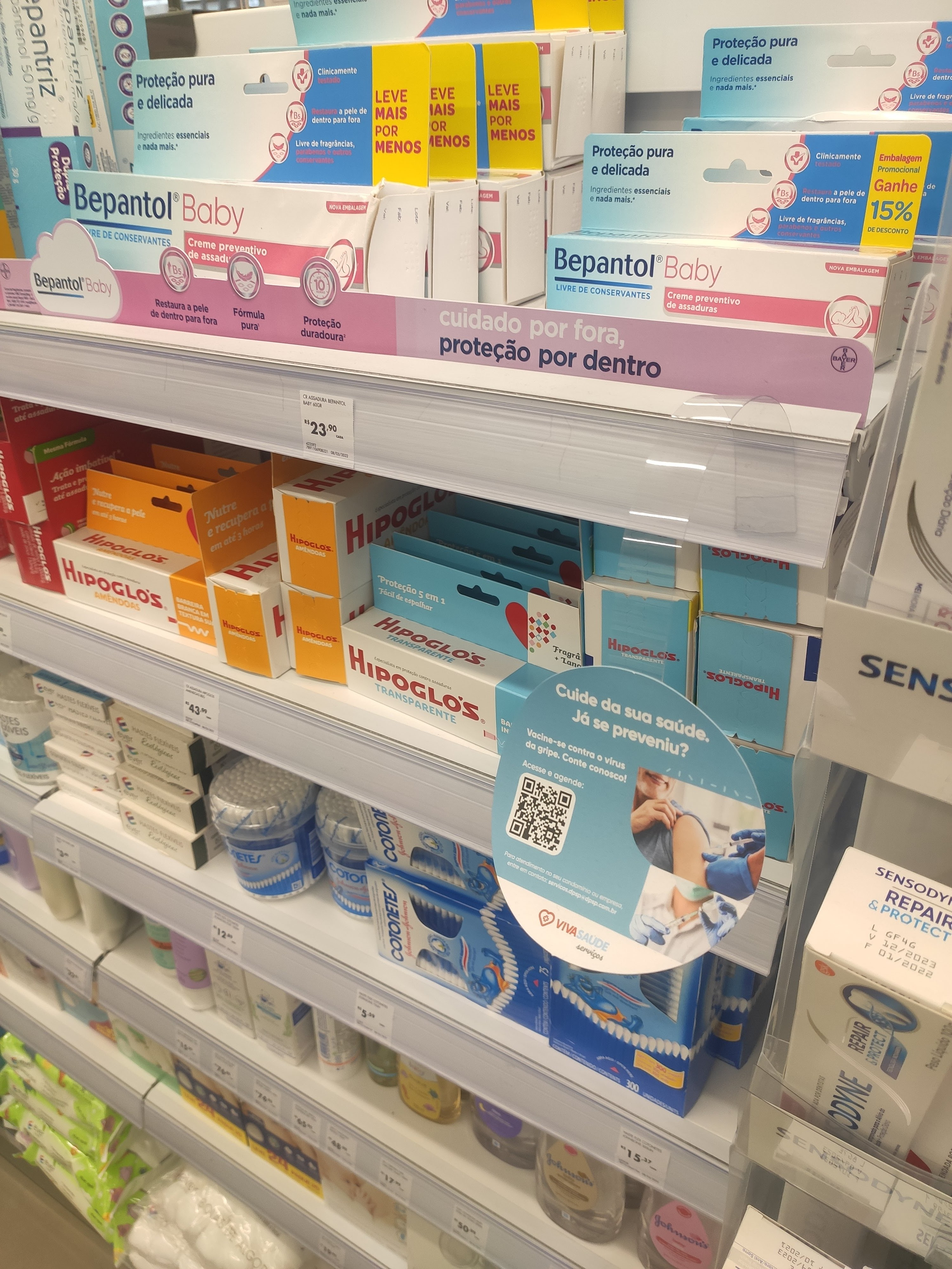QR-CODE: (509, 777, 572, 851)
